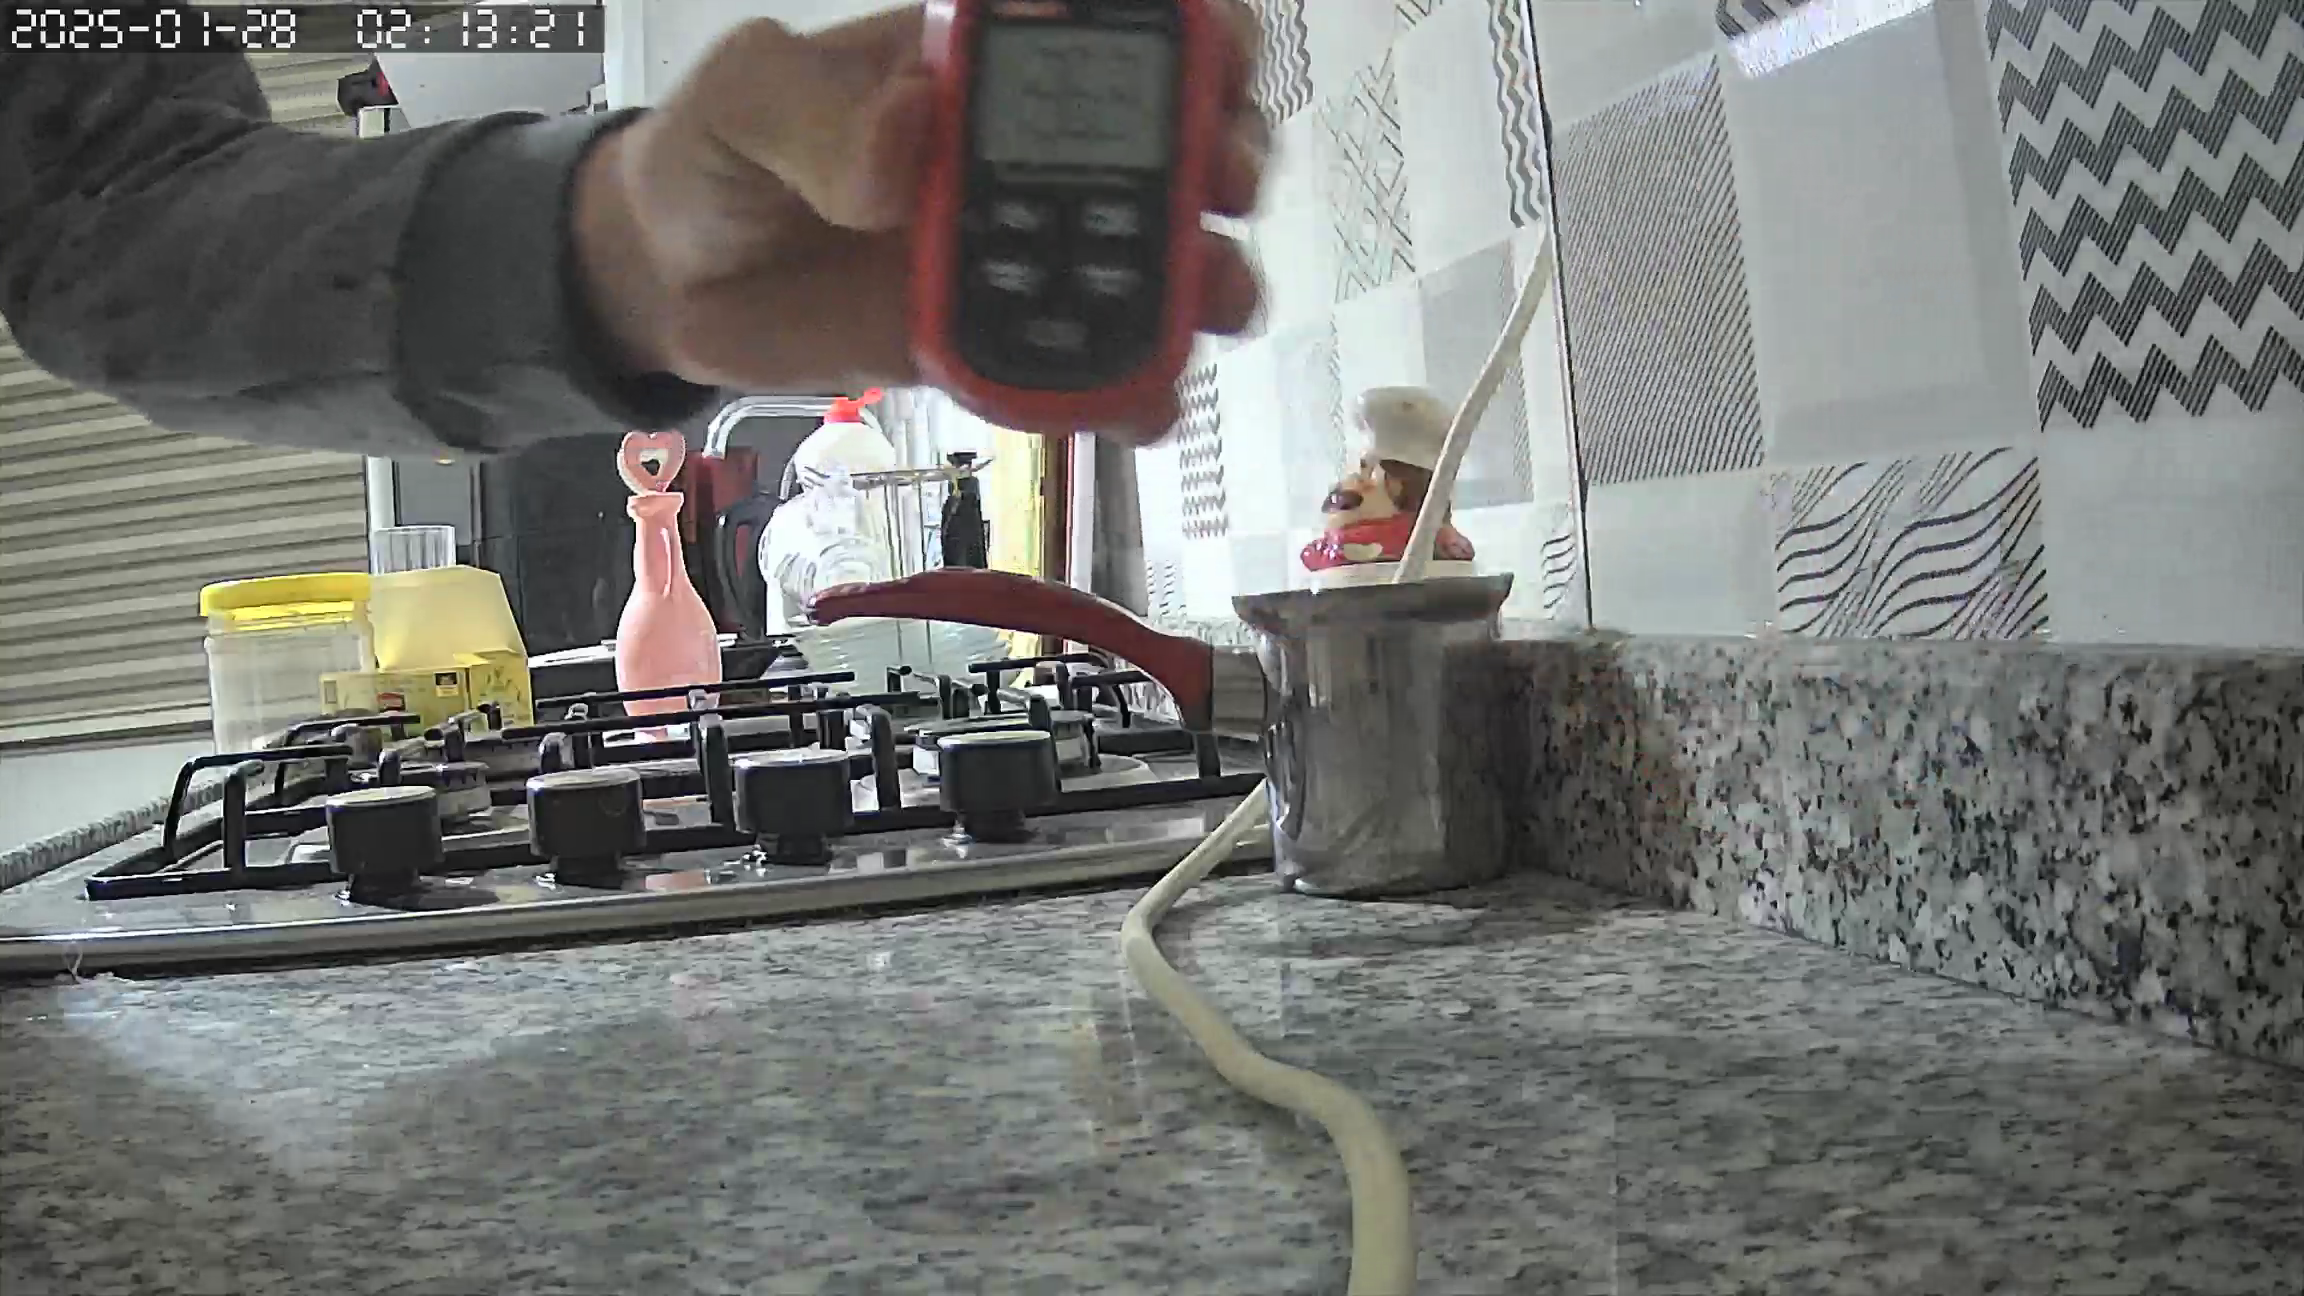screen: (975, 21, 1176, 169)
